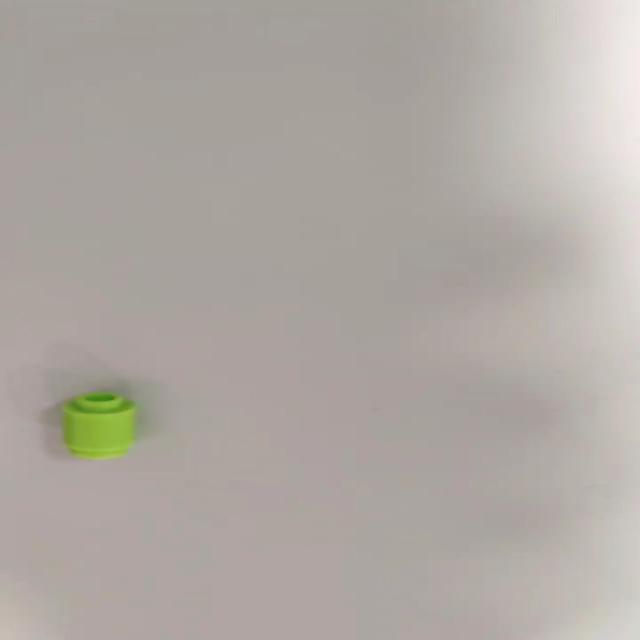S1x1x1: (54, 390, 139, 461)
